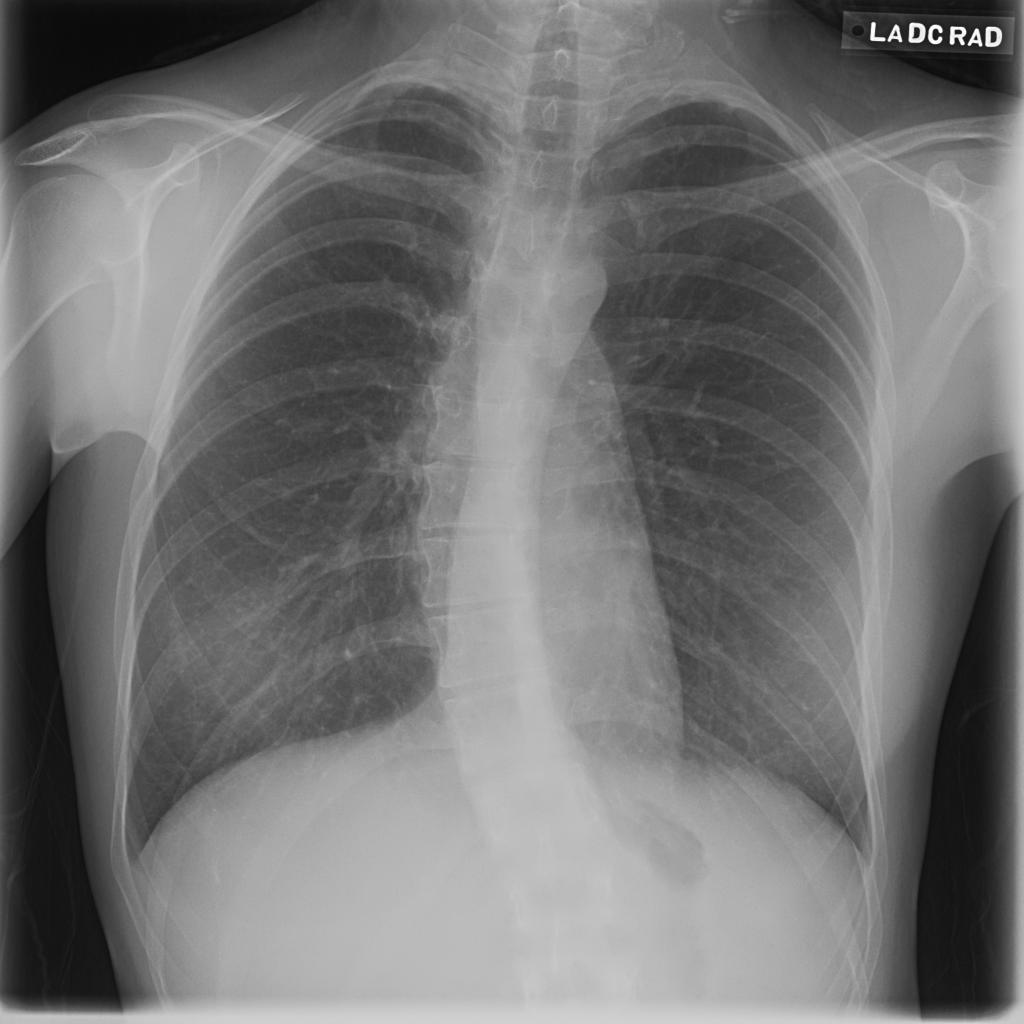Nodule: (140, 239, 184, 264)
